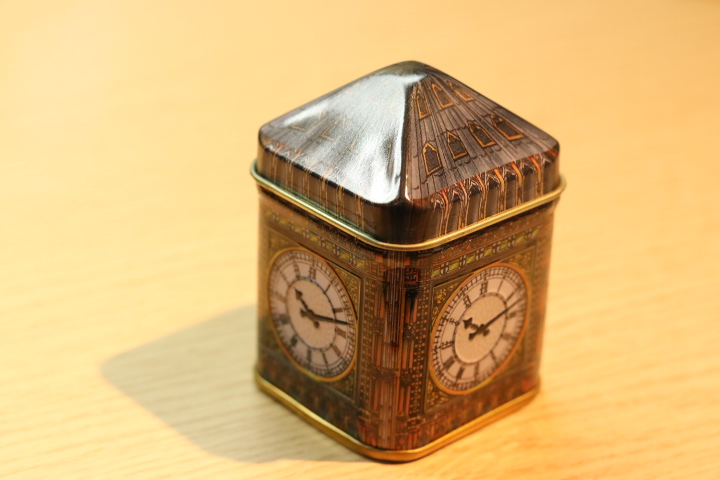Big Ben: (234, 47, 586, 479)
